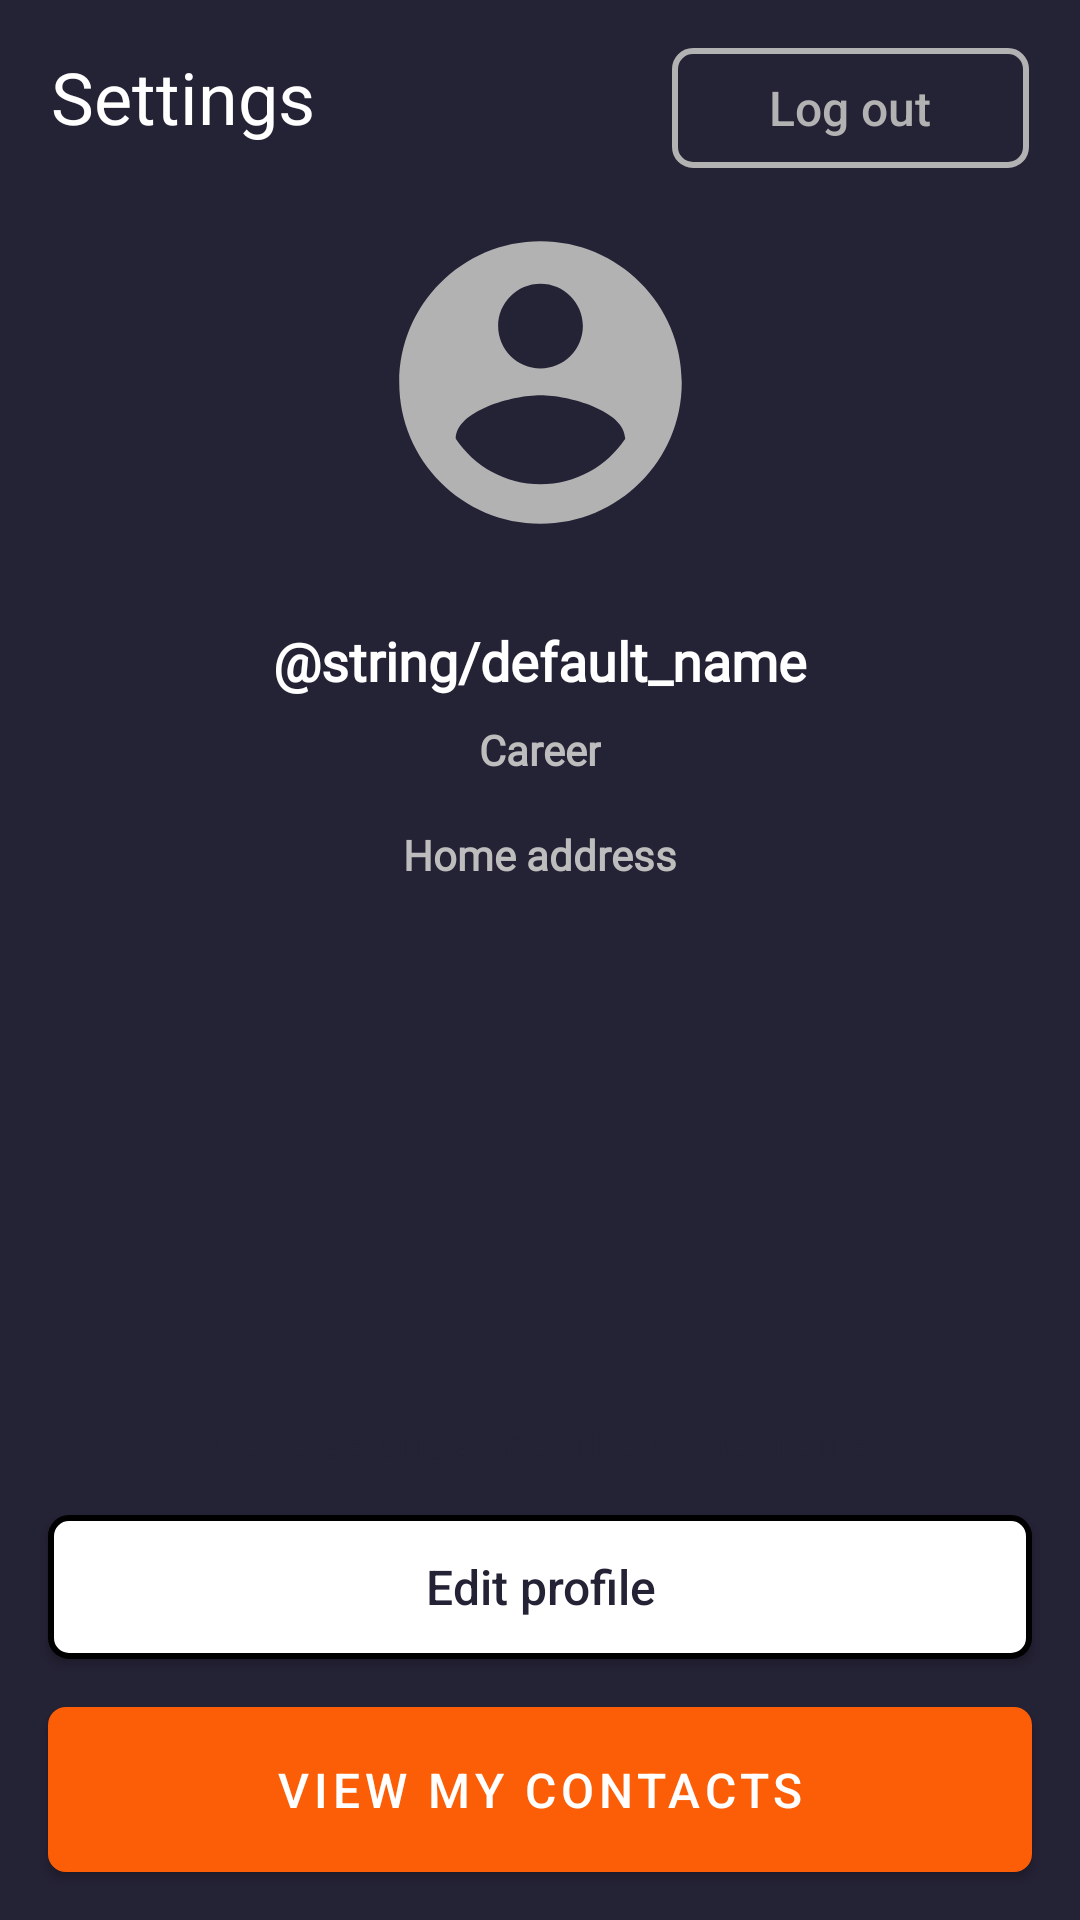

Screen size 1080w x 1920h. Icon name, then its box in pixels as (x1, y1, x2, y2):
photo: (399, 241, 682, 524)
